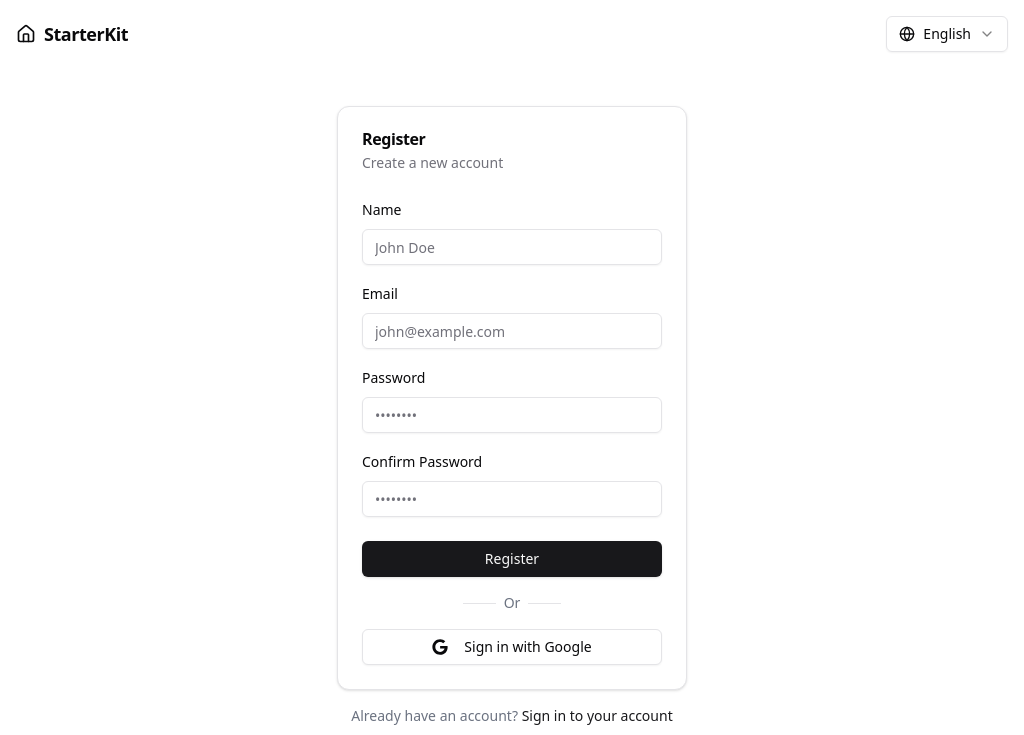
it: AuthPage › password validation › displays error when password lacks number
Type "TestTest!" into the password field labelled "Password".
click(512, 415); type("TestTest!")  # box x1=362 y1=397 x2=662 y2=433
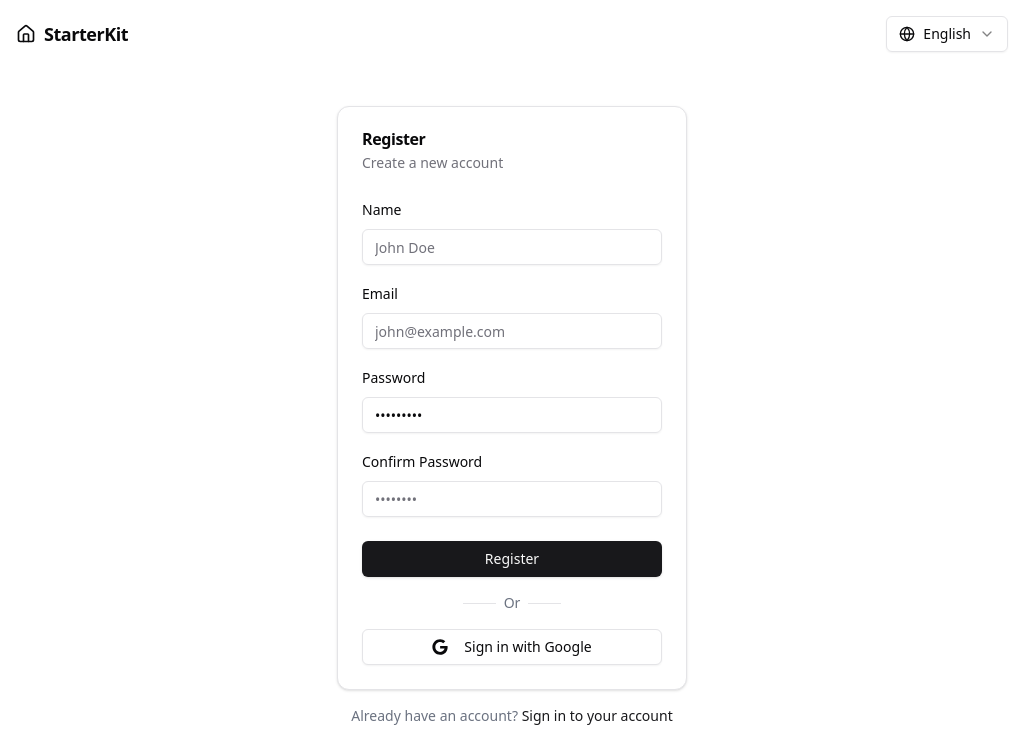
Submit the form with test id "register-form", box x1=338 y1=197 x2=686 y2=689
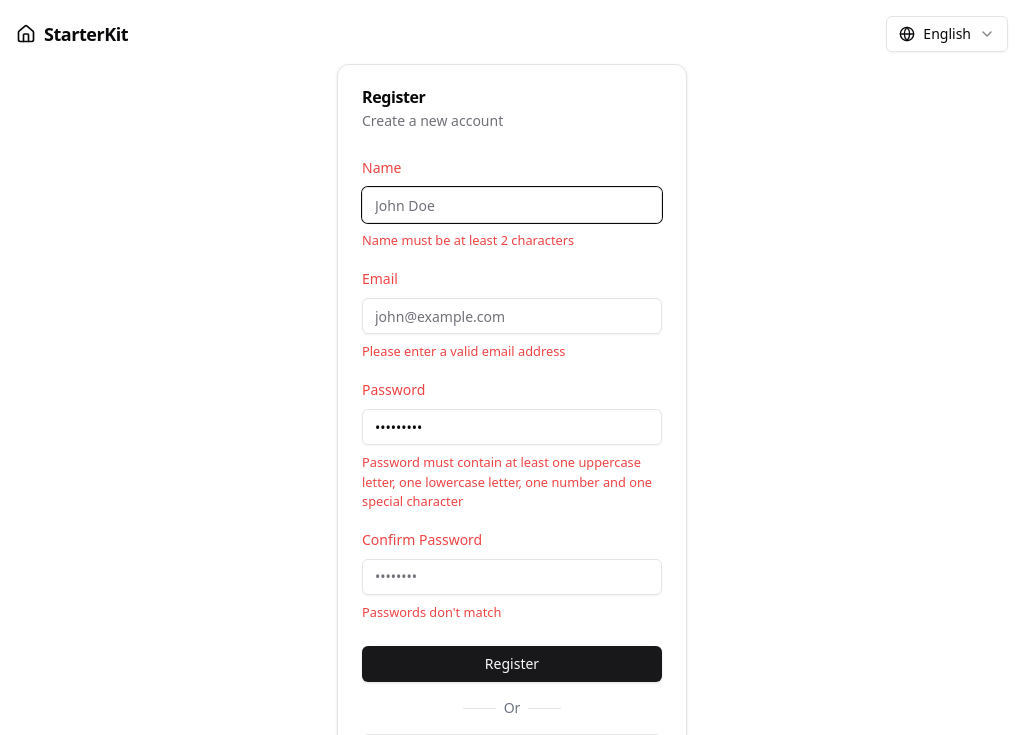
Result: the text "number" is shown at x1=362 y1=453 x2=652 y2=510
